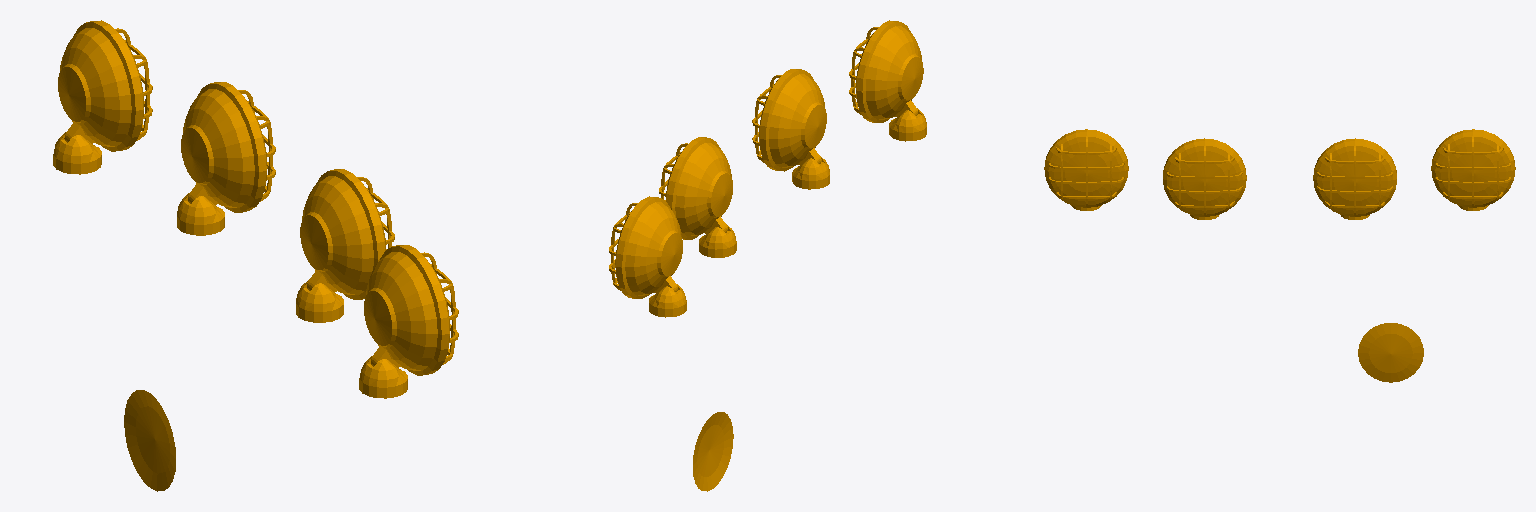
URDF robot description (X1):
<?xml version='1.0' encoding='utf-8'?>
<robot name='X1'>
  <link name='tunnel_qual_ign/X1/base'>
    <inertial>
      <origin xyz='-0.00065 -0.085 0.062' rpy='0 -0 0'/>
      <mass value='46.034'/>
      <inertia ixx='0.613201' ixy='-0.0236401' ixz='-0.1197' iyy='1.7496' iyz='-0.00154411' izz='2.0406'/>
    </inertial>
    <collision name='base_collision'>
      <origin xyz='0 0 0.061875' rpy='0 -0 0'/>
      <geometry>
        <box size='0.9874 0.5709 0.12375'/>
      </geometry>
    </collision>
    <collision name='base_collision_1'>
      <origin xyz='0 0 0.185625' rpy='0 -0 0'/>
      <geometry>
        <box size='0.78992 0.5709 0.12375'/>
      </geometry>
    </collision>
    <collision name='top_plate_collision'>
      <origin xyz='0.0812 0 0.245' rpy='0 -0 0'/>
      <geometry>
        <mesh filename="package://x1_description/meshes/top_plate.dae" scale='1 1 1'/>
      </geometry>
    </collision>
    <collision name='top_plate_collision_2'>
      <origin xyz='0.0812 0 0.245' rpy='0 -0 0'/>
      <geometry>
        <box size='0.32 0.41 0.09'/>
      </geometry>
    </collision>
    <visual name='base_visual'>
      <origin xyz='0 0 0' rpy='0 0 -3.14159'/>
      <geometry>
        <mesh filename='package://x1_description/meshes/chassis.dae' scale='1 1 1'/>
      </geometry>
    </visual>
    <visual name='center_left_headlight_visual'>
      <origin xyz='0.485766 0.0844 0.124431' rpy='0 0 -3.14159'/>
      <geometry>
        <mesh filename='package://x1_description/meshes/headlight.dae' scale='1 1 1'/>
      </geometry>
    </visual>
    <visual name='center_right_headlight_visual'>
      <origin xyz='0.485766 -0.0844 0.124431' rpy='0 0 -3.14159'/>
      <geometry>
        <mesh filename='package://x1_description/meshes/headlight.dae' scale='1 1 1'/>
      </geometry>
    </visual>
    <visual name='left_headlight_visual'>
      <origin xyz='0.461459 0.216803 0.124431' rpy='0 0 -3.14159'/>
      <geometry>
        <mesh filename='package://x1_description/meshes/headlight.dae' scale='1 1 1'/>
      </geometry>
    </visual>
    <visual name='marker_visual_1'>
      <origin xyz='0.066047 0.212211 0.209188' rpy='-3.14159 1.57079 -1.60259'/>
      <geometry>
        <mesh filename='package://x1_description/meshes/led.dae' scale='1 1 1'/>
      </geometry>
    </visual>
    <visual name='marker_visual_2'>
      <origin xyz='-0.066047 0.212211 0.209188' rpy='-3.14159 1.57079 -1.60259'/>
      <geometry>
        <mesh filename='package://x1_description/meshes/led.dae' scale='1 1 1'/>
      </geometry>
    </visual>
    <visual name='marker_visual_3'>
      <origin xyz='-0.42493 0 0.209188' rpy='3.14159 1.57079 7e-06'/>
      <geometry>
        <mesh filename='package://x1_description/meshes/led.dae' scale='1 1 1'/>
      </geometry>
    </visual>
    <visual name='marker_visual_4'>
      <origin xyz='-0.42493 0.13619 0.209188' rpy='3.14159 1.57079 7e-06'/>
      <geometry>
        <mesh filename='package://x1_description/meshes/led.dae' scale='1 1 1'/>
      </geometry>
    </visual>
    <visual name='marker_visual_5'>
      <origin xyz='-0.42493 -0.13619 0.209188' rpy='3.14159 1.57079 7e-06'/>
      <geometry>
        <mesh filename='package://x1_description/meshes/led.dae' scale='1 1 1'/>
      </geometry>
    </visual>
    <visual name='right_headlight_visual'>
      <origin xyz='0.461459 -0.216803 0.124431' rpy='0 0 -3.14159'/>
      <geometry>
        <mesh filename='package://x1_description/meshes/headlight.dae' scale='1 1 1'/>
      </geometry>
    </visual>
    <visual name='marker_visual_6'>
      <origin xyz='0.066047 -0.212211 0.209188' rpy='3.14159 1.57079 1.60259'/>
      <geometry>
        <mesh filename='package://x1_description/meshes/led.dae' scale='1 1 1'/>
      </geometry>
    </visual>
    <visual name='marker_visual_7'>
      <origin xyz='-0.066047 -0.212211 0.209188' rpy='3.14159 1.57079 1.60259'/>
      <geometry>
        <mesh filename='package://x1_description/meshes/led.dae' scale='1 1 1'/>
      </geometry>
    </visual>
    <visual name='top_plate_visual'>
      <origin xyz='0.0812 0 0.245' rpy='0 -0 0'/>
      <geometry>
        <mesh filename='package://x1_description/meshes/top_plate.dae' scale='1 1 1'/>
      </geometry>
    </visual>
    <visual name='left_light_source'>
      <origin xyz='0.435959 0.124431 0' rpy='3.14159 -3e-06 3.14159'/>
      <geometry>
        <mesh filename='package://x1_description/meshes/headlight_lamp.dae' scale='1 1 1'/>
      </geometry>
    </visual>
    <visual name='center_left_light_visual'>
      <origin xyz='0.485266 0.0844 0.124431' rpy='0 0 -3.14159'/>
      <geometry>
        <mesh filename='package://x1_description/meshes/headlight_lamp.dae' scale='1 1 1'/>
      </geometry>
    </visual>
  </link>
  <sensor name='imu_sensor' update_rate='1000'>
    <parent link='tunnel_qual_ign/X1/base'/>
    <origin xyz='0 0 0' rpy='0 -0 0'/>
  </sensor>
  <link name='tunnel_qual_ign/X1/front_left_wheel'>
    <inertial>
      <origin xyz='0 0 0' rpy='0 -0 0'/>
      <mass value='2.637'/>
      <inertia ixx='0.02467' ixy='0' ixz='0' iyy='0.04411' iyz='0' izz='0.02467'/>
    </inertial>
    <collision name='collision'>
      <origin xyz='0 0 0' rpy='-1.57079 0 0'/>
      <geometry>
        <cylinder radius='0.1651' length='0.1143'/>
      </geometry>
    </collision>
    <visual name='visual'>
      <origin xyz='0 0 0' rpy='0 -0 0'/>
      <geometry>
        <mesh filename='package://x1_description/meshes/wheel.dae' scale='1 1 1'/>
      </geometry>
    </visual>
  </link>
  <link name='tunnel_qual_ign/X1/front_right_wheel'>
    <inertial>
      <origin xyz='0 0 0' rpy='0 -0 0'/>
      <mass value='2.637'/>
      <inertia ixx='0.02467' ixy='0' ixz='0' iyy='0.04411' iyz='0' izz='0.02467'/>
    </inertial>
    <collision name='collision'>
      <origin xyz='0 0 0' rpy='-1.57079 0 0'/>
      <geometry>
        <cylinder radius='0.1651' length='0.1143'/>
      </geometry>
    </collision>
    <visual name='visual'>
      <origin xyz='0 0 0' rpy='0 -0 0'/>
      <geometry>
        <mesh filename='package://x1_description/meshes/wheel.dae' scale='1 1 1'/>
      </geometry>
    </visual>
  </link>
  <link name='tunnel_qual_ign/X1/rear_left_wheel'>
    <inertial>
      <origin xyz='0 0 0' rpy='0 -0 0'/>
      <mass value='2.637'/>
      <inertia ixx='0.02467' ixy='0' ixz='0' iyy='0.04411' iyz='0' izz='0.02467'/>
    </inertial>
    <collision name='collision'>
      <origin xyz='0 0 0' rpy='-1.57079 0 0'/>
      <geometry>
        <cylinder radius='0.1651' length='0.1143'/>
      </geometry>
    </collision>
    <visual name='visual'>
      <origin xyz='0 0 0' rpy='0 -0 0'/>
      <geometry>
        <mesh filename='package://x1_description/meshes/wheel.dae' scale='1 1 1'/>
      </geometry>
    </visual>
  </link>
  <link name='tunnel_qual_ign/X1/rear_right_wheel'>
    <inertial>
      <origin xyz='0 0 0' rpy='0 -0 0'/>
      <mass value='2.637'/>
      <inertia ixx='0.02467' ixy='0' ixz='0' iyy='0.04411' iyz='0' izz='0.02467'/>
    </inertial>
    <collision name='collision'>
      <origin xyz='0 0 0' rpy='-1.57079 0 0'/>
      <geometry>
        <cylinder radius='0.1651' length='0.1143'/>
      </geometry>
    </collision>
    <visual name='visual'>
      <origin xyz='0 0 0' rpy='0 -0 0'/>
      <geometry>
        <mesh filename='package://x1_description/meshes/wheel.dae' scale='1 1 1'/>
      </geometry>
    </visual>
  </link>
  <joint name='front_left_wheel_joint' type='revolute'>
    <origin xyz='0.256 0.2854 0.03282' rpy='0 -0 0'/>
    <parent link='tunnel_qual_ign/X1/base'/>
    <child link='tunnel_qual_ign/X1/front_left_wheel'/>
    <axis xyz='0 1 0'/>
    <limit lower='-1.79769e+308' upper='1.79769e+308' effort='-1' velocity='-1'/>
  </joint>
  <joint name='front_right_wheel_joint' type='revolute'>
    <origin xyz='0.256 -0.2854 0.03282' rpy='0 -0 0'/>
    <parent link='tunnel_qual_ign/X1/base'/>
    <child link='tunnel_qual_ign/X1/front_right_wheel'/>
    <axis xyz='0 1 0'/>
    <limit lower='-1.79769e+308' upper='1.79769e+308' effort='-1' velocity='-1'/>
  </joint>
  <joint name='rear_left_wheel_joint' type='revolute'>
    <origin xyz='-0.256 0.2854 0.03282' rpy='0 -0 0'/>
    <parent link='tunnel_qual_ign/X1/base'/>
    <child link='tunnel_qual_ign/X1/rear_left_wheel'/>
    <axis xyz='0 1 0'/>
    <limit lower='-1.79769e+308' upper='1.79769e+308' effort='-1' velocity='-1'/>
  </joint>
  <joint name='rear_right_wheel_joint' type='revolute'>
    <origin xyz='-0.256 -0.2854 0.03282' rpy='0 -0 0'/>
    <parent link='tunnel_qual_ign/X1/base'/>
    <child link='tunnel_qual_ign/X1/rear_right_wheel'/>
    <axis xyz='0 1 0'/>
    <limit lower='-1.79769e+308' upper='1.79769e+308' effort='-1' velocity='-1'/>
  </joint>
</robot>

--- Render facts (derived) ---
3 views of the same robot in one strip: view 1: azimuth 30°, elevation 25°; view 2: azimuth 150°, elevation 25°; view 3: azimuth 270°, elevation 25° (orthographic).
Model X1 with 5 links and 4 joints (4 revolute), rooted at tunnel_qual_ign/X1/base, posed all joints at 0.
Visible links, largest first — view 1: tunnel_qual_ign/X1/base; view 2: tunnel_qual_ign/X1/base; view 3: tunnel_qual_ign/X1/base.
Link boxes in pixels (left/top/right/bottom): tunnel_qual_ign/X1/base: left=53, top=20, right=458, bottom=491; tunnel_qual_ign/X1/base: left=609, top=20, right=926, bottom=491; tunnel_qual_ign/X1/base: left=1044, top=129, right=1515, bottom=382.
Bounding box of the posed robot: 0.086 × 0.5279 × 0.3201 m (x, y, z).
6 mesh visuals loaded from 6 distinct referenced files (2 Collada DAE); not drawn: 13 (reference not matched to a file when rendering).